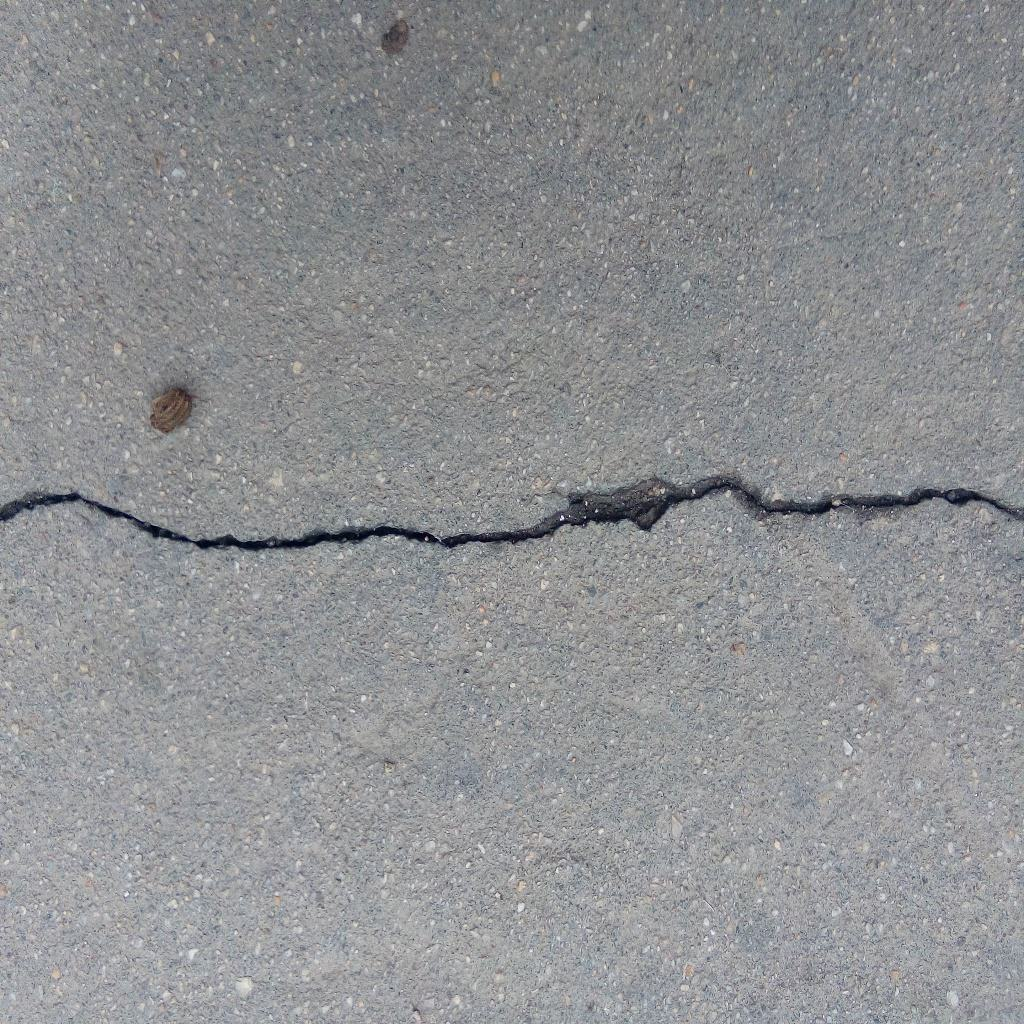Crack: (1, 464, 1024, 552)
